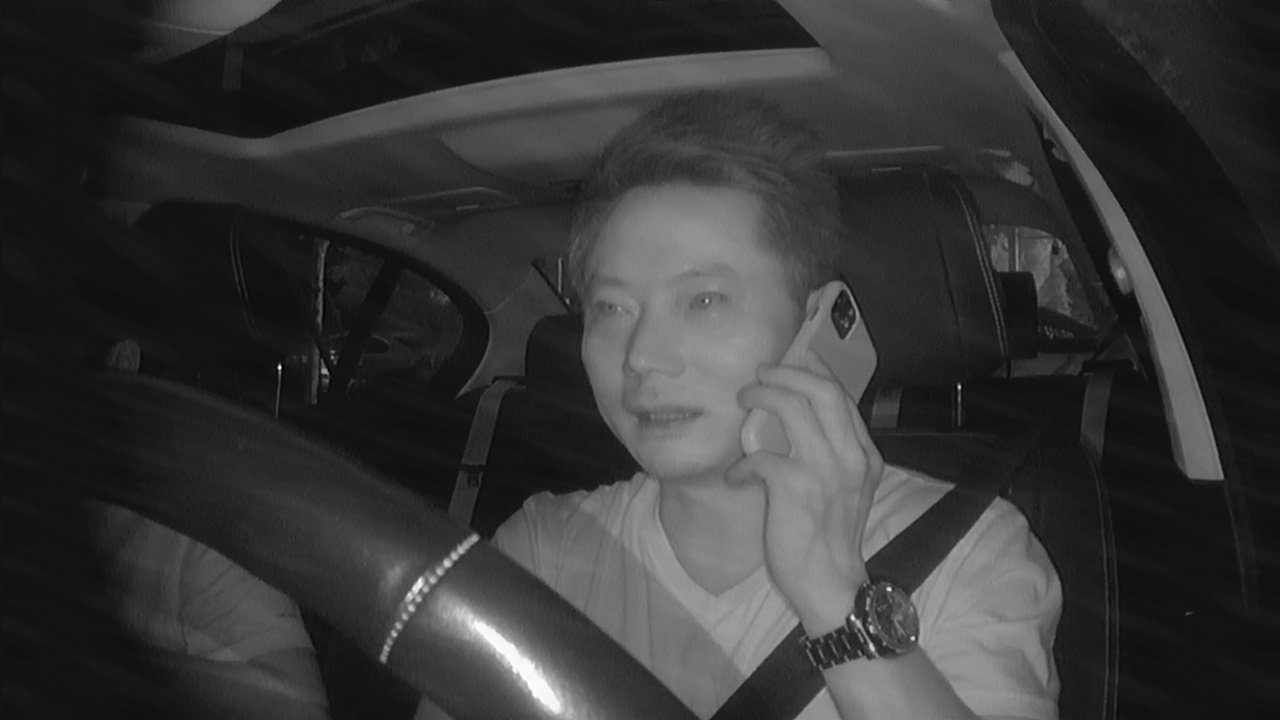hand: (717, 349, 887, 572)
